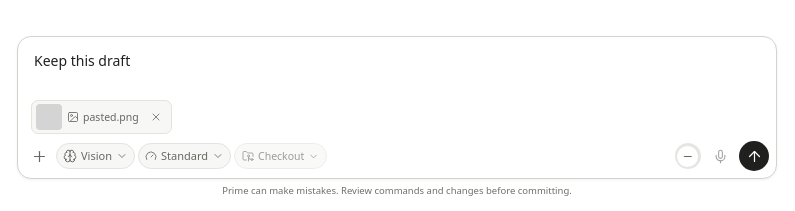
Scenario: Composer image ingestion › restores the text and image draft when prompt admission fails
Click the button named "Send message": (754, 156) x1=739 y1=141 x2=769 y2=171
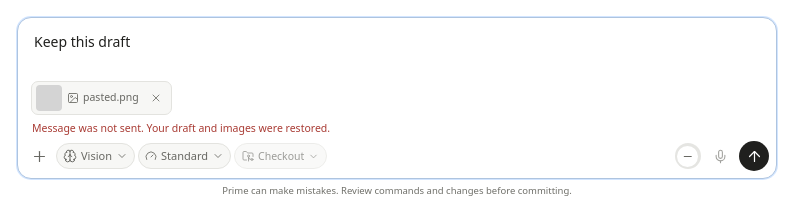
Expected: the dropdown named "Message Prime" holds "Keep this draft", x1=25 y1=25 x2=769 y2=80
Now the message "Message was not sent. Your draft and images were restored." is shown, box x1=32 y1=121 x2=330 y2=135
